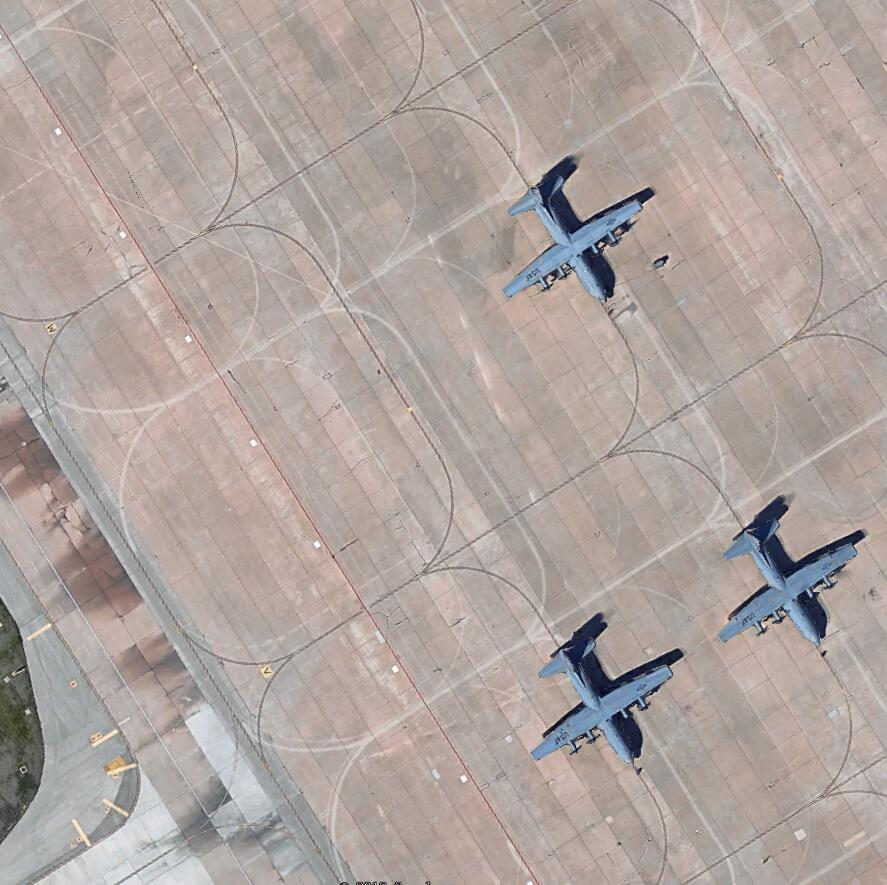A2: (713, 491, 876, 653), (524, 610, 689, 770), (498, 150, 662, 307)
